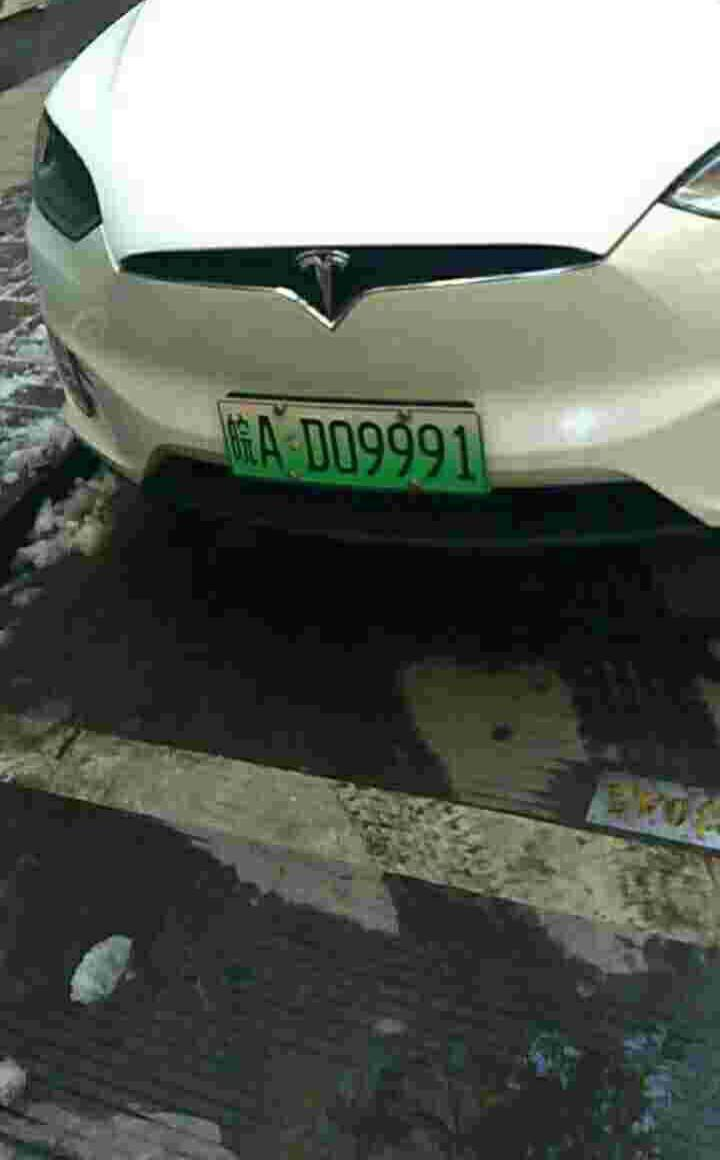car_id: (218, 400, 488, 489)
